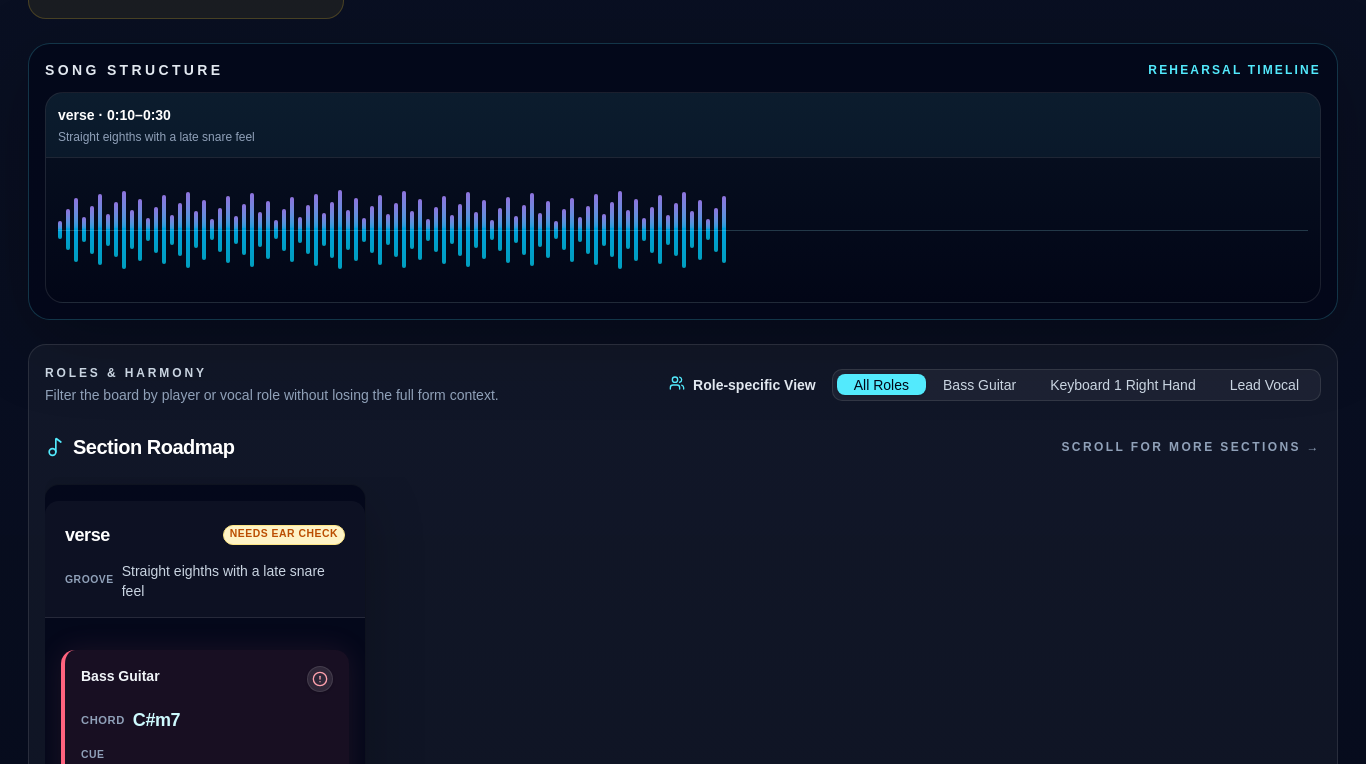
Scenario: Workspace › enables bass transcription from selected role metadata rather than role id text
The width and height of the screenshot is (1366, 764).
(page scrolled)
Click the tab "Bass Guitar" at (980, 385), box [926,374,1033,395]
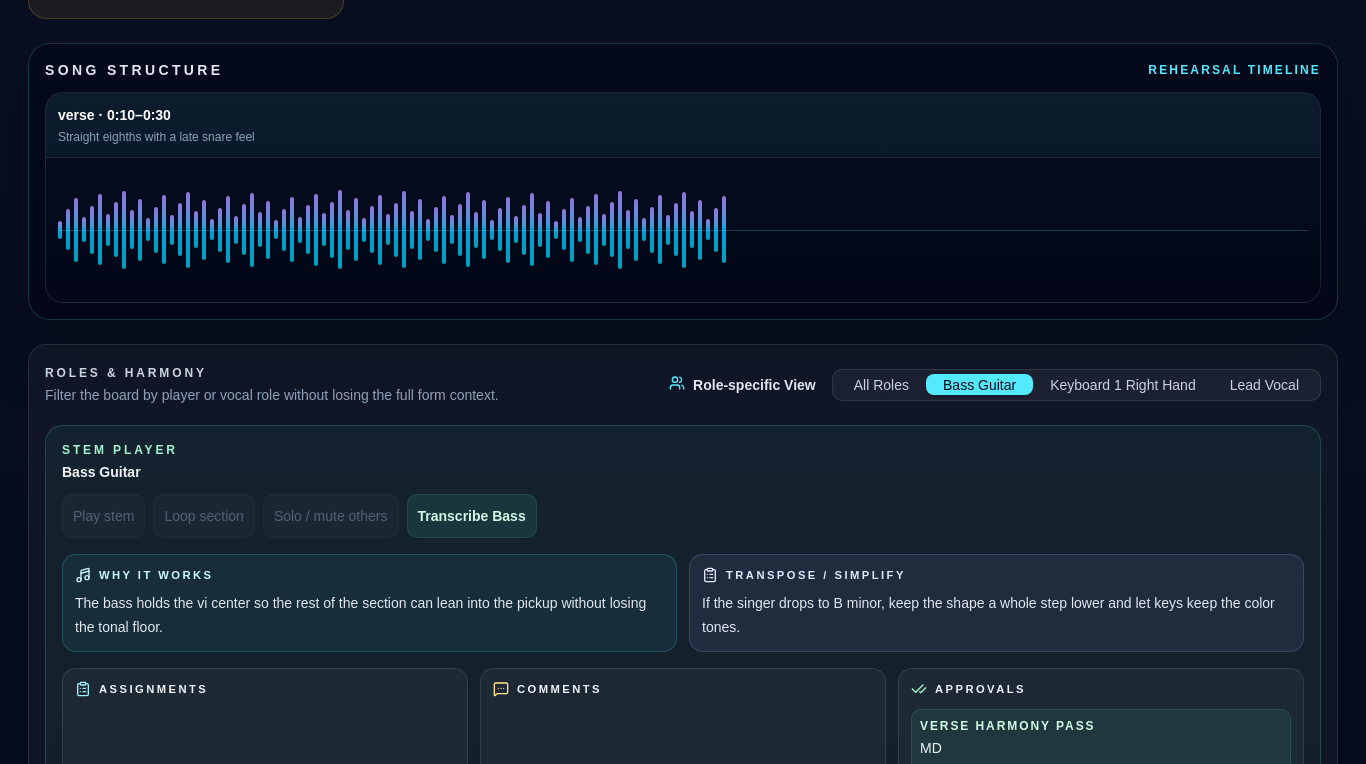
Result: the button "Transcribe Bass" is enabled at [406,494,537,538]
